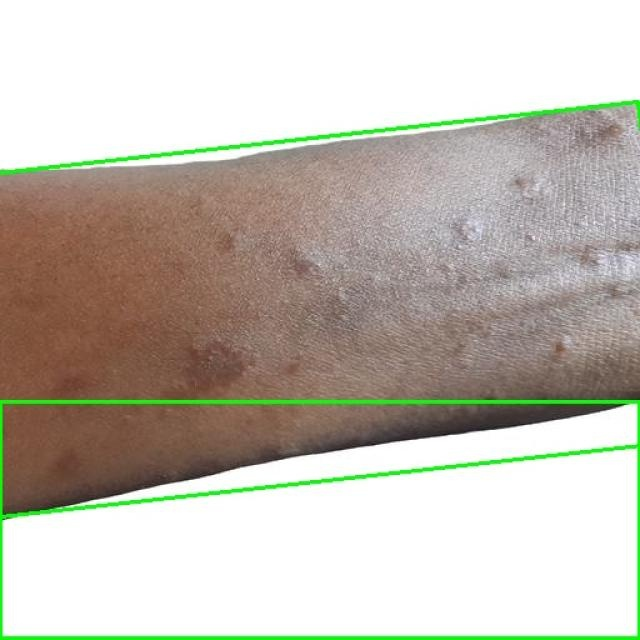Scabies: (0, 101, 640, 517), (0, 402, 639, 639)
